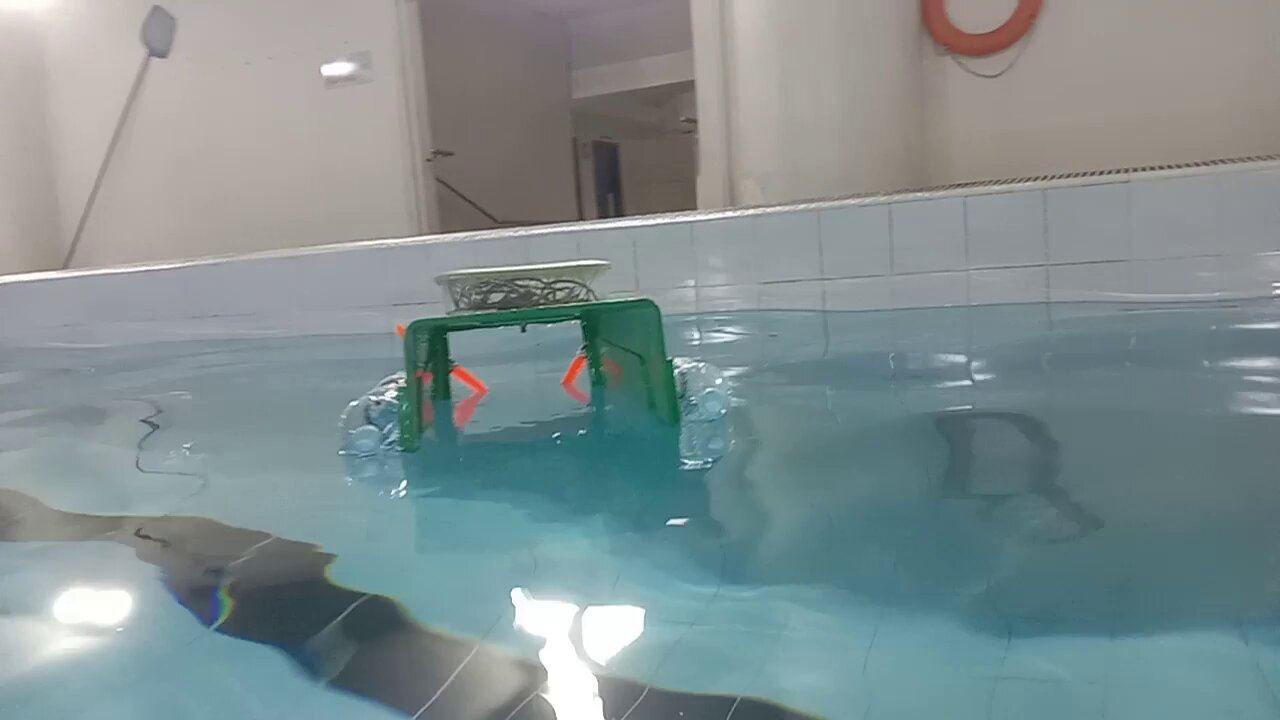drone: (334, 251, 737, 463)
